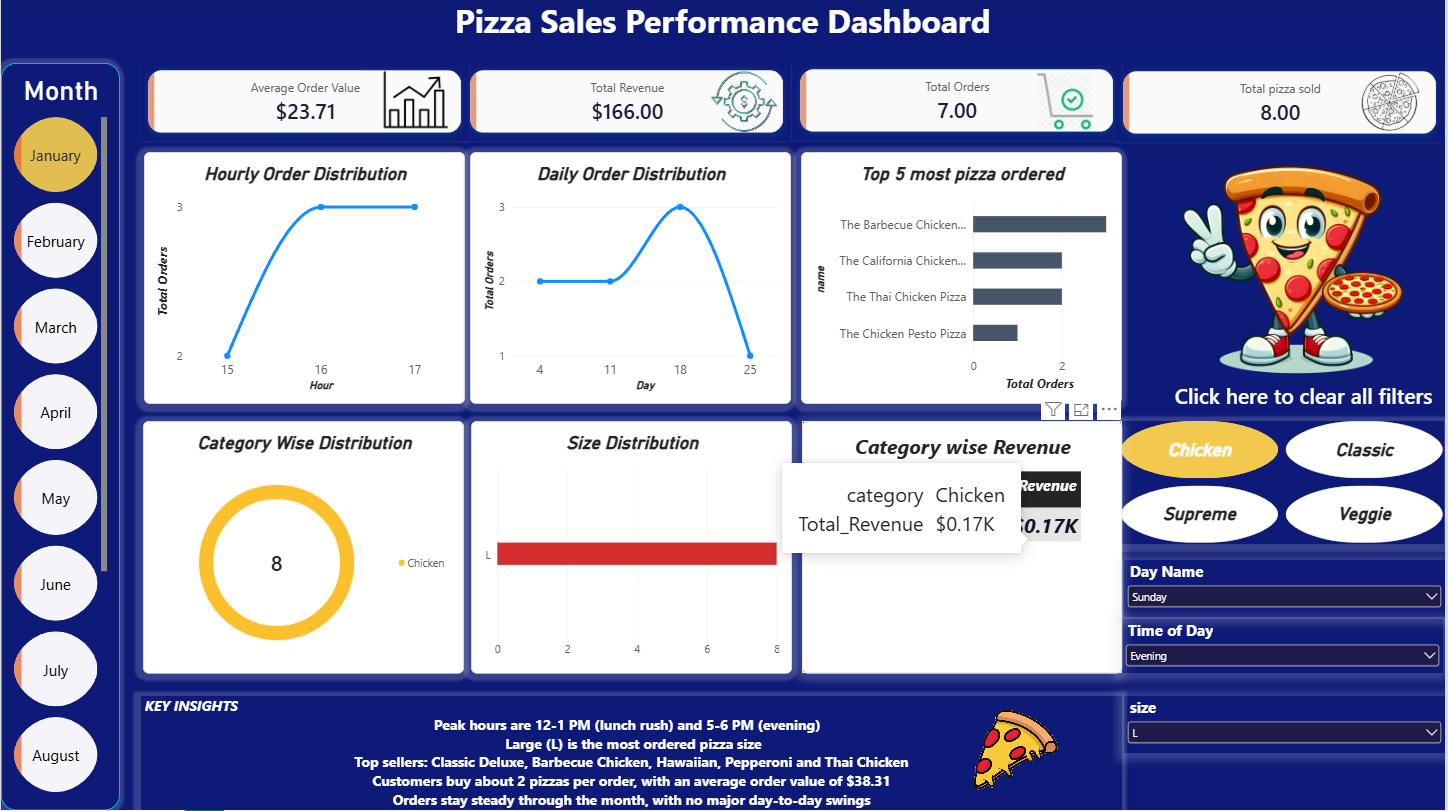

Layout of this report page (visuals, bound fields, positions):
{"tool":"powerbi","page":{"name":"Page 1","canvas":[1920,1080],"ordinal":0},"visuals":[{"type":"cardVisual","fields":{"Data":["pizza_sales order_details.Average_Order_Value"]},"box":[184.9,85.1,438.3,105],"z":0},{"type":"textbox","box":[0,0,1920,86.7],"z":1000},{"type":"listSlicer","fields":{"Values":["pizza_sales orders.order_date.Variation.Date Hierarchy.Month"]},"box":[0,86.5,158.3,993.5],"z":2000},{"type":"cardVisual","fields":{"Data":["pizza_sales order_details.Total_Revenue"]},"box":[613.2,85.1,438.3,105],"z":3000},{"type":"cardVisual","fields":{"Data":["pizza_sales order_details.Total_pizza_sold"]},"box":[1481.7,86.5,438.3,105],"z":4000},{"type":"cardVisual","fields":{"Data":["pizza_sales order_details.Total_Orders"]},"box":[1052.1,83.8,438.3,105],"z":5000},{"type":"lineChart","title":"Hourly Order Distribution","fields":{"Category":["pizza_sales orders.Hour"],"Y":["CountNonNull(pizza_sales order_details.order_id)"]},"box":[190.2,204.8,426.9,335.2],"z":6000},{"type":"lineChart","title":"Daily Order Distribution","fields":{"Category":["pizza_sales orders.order_date.Variation.Date Hierarchy.Day"],"Y":["CountNonNull(pizza_sales order_details.order_id)"]},"box":[623.8,204.8,426.9,335.2],"z":7000},{"type":"clusteredBarChart","title":"Top 5 most pizza ordered","fields":{"Category":["pizza_sales pizza_types.name"],"Y":["Sum(pizza_sales order_details.quantity)"]},"box":[1064,204.8,426.9,335.2],"z":8000},{"type":"image","box":[1554.8,204.8,317.9,307.2],"z":9000},{"type":"advancedSlicerVisual","fields":{"Values":["pizza_sales pizza_types.category"]},"box":[1489.7,562.6,429.6,163.6],"z":10000},{"type":"donutChart","title":"Category Wise Distribution","fields":{"Category":["pizza_sales pizza_types.category"],"Y":["Sum(pizza_sales order_details.quantity)"]},"box":[188.9,562.6,427.5,335.6],"z":11000},{"type":"barChart","title":"Size Distribution","fields":{"Category":["pizza_sales pizzas.size"],"Y":["Sum(pizza_sales order_details.quantity)"]},"box":[625.1,562.6,427.5,335.6],"z":12000},{"type":"pivotTable","title":"Category wise Revenue","fields":{"Rows":["pizza_sales pizza_types.category"],"Values":["pizza_sales order_details.Total_Revenue"]},"box":[1065.4,562.6,426,335.6],"z":13000},{"type":"slicer","fields":{"Values":["pizza_sales orders.Day Name"]},"box":[1493.6,747.5,426.9,75.8],"z":14000},{"type":"slicer","fields":{"Values":["pizza_sales pizzas.size"]},"box":[1493.6,928.4,426.9,75.8],"z":15000},{"type":"textbox","box":[186.2,928.4,1304.8,151.6],"z":16000},{"type":"slicer","fields":{"Values":["pizza_sales orders.Time of Day"]},"box":[1491,826,426.9,71.8],"z":17000},{"type":"image","box":[1209,919.1,280.6,160.9],"z":18000},{"type":"image","box":[478.8,81.1,146.3,107.7],"z":19000},{"type":"image","box":[924.4,89.1,127.7,97.1],"z":20000},{"type":"image","box":[1359.3,98.4,111.7,78.5],"z":21000},{"type":"image","box":[1775.6,95.8,145,83.8],"z":22000},{"type":"cardVisual","fields":{"Data":["pizza_sales order_details.Reset Line 2"]},"box":[1496.3,512.1,424.3,50.5],"z":24000},{"type":"actionButton","box":[1499,501.4,421.6,50.5],"z":24001}]}

Visuals, with their boxes in screenshot pixels (x1, y1, x2, y2), scaled from the page's 1920x1080 canvas onto the 1448x811 screenshot:
cardVisual - pizza_sales order_details.Average_Order_Value: bbox=(139, 64, 470, 143)
textbox: bbox=(0, 0, 1447, 65)
listSlicer - pizza_sales orders.order_date.Variation.Date Hierarchy.Month: bbox=(0, 65, 119, 810)
cardVisual - pizza_sales order_details.Total_Revenue: bbox=(462, 64, 793, 143)
cardVisual - pizza_sales order_details.Total_pizza_sold: bbox=(1117, 65, 1447, 144)
cardVisual - pizza_sales order_details.Total_Orders: bbox=(793, 63, 1124, 142)
"Hourly Order Distribution" lineChart: bbox=(143, 154, 465, 406)
"Daily Order Distribution" lineChart: bbox=(470, 154, 792, 406)
"Top 5 most pizza ordered" clusteredBarChart: bbox=(802, 154, 1124, 406)
image: bbox=(1173, 154, 1412, 384)
advancedSlicerVisual - pizza_sales pizza_types.category: bbox=(1123, 422, 1447, 545)
"Category Wise Distribution" donutChart: bbox=(142, 422, 465, 674)
"Size Distribution" barChart: bbox=(471, 422, 794, 674)
"Category wise Revenue" pivotTable: bbox=(803, 422, 1125, 674)
slicer - pizza_sales orders.Day Name: bbox=(1126, 561, 1447, 618)
slicer - pizza_sales pizzas.size: bbox=(1126, 697, 1447, 754)
textbox: bbox=(140, 697, 1124, 810)
slicer - pizza_sales orders.Time of Day: bbox=(1124, 620, 1446, 674)
image: bbox=(912, 690, 1123, 810)
image: bbox=(361, 61, 471, 142)
image: bbox=(697, 67, 793, 140)
image: bbox=(1025, 74, 1109, 133)
image: bbox=(1339, 72, 1447, 135)
cardVisual - pizza_sales order_details.Reset Line 2: bbox=(1128, 385, 1447, 422)
actionButton: bbox=(1130, 377, 1447, 414)
